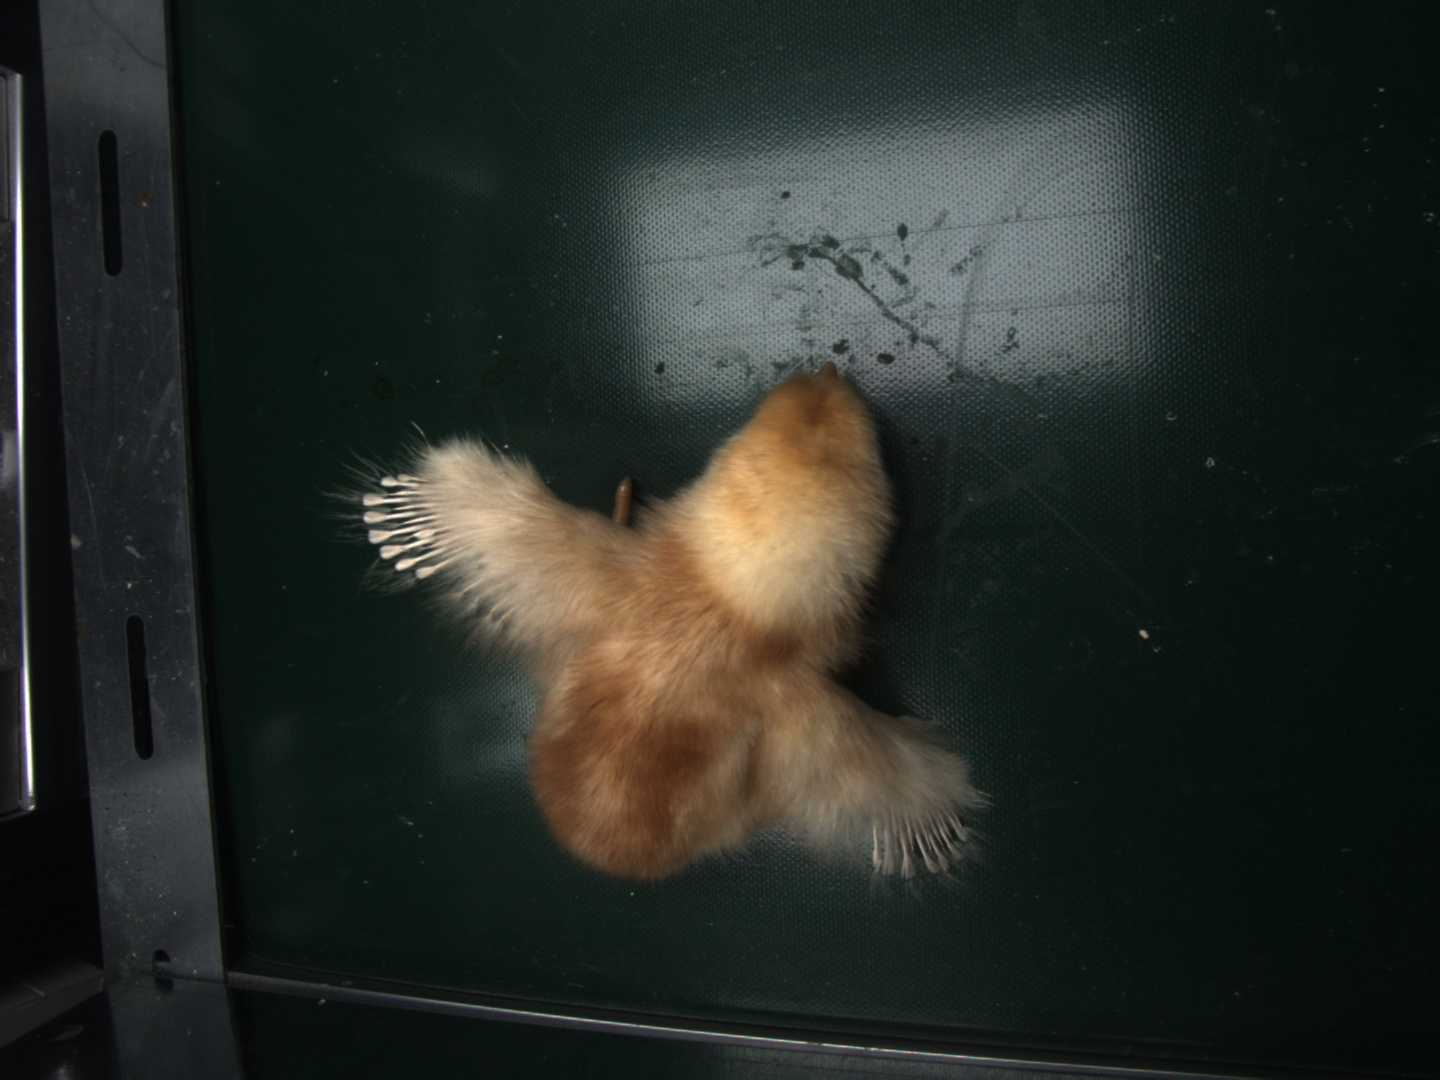female: (361, 471, 458, 579), (872, 799, 968, 878)
